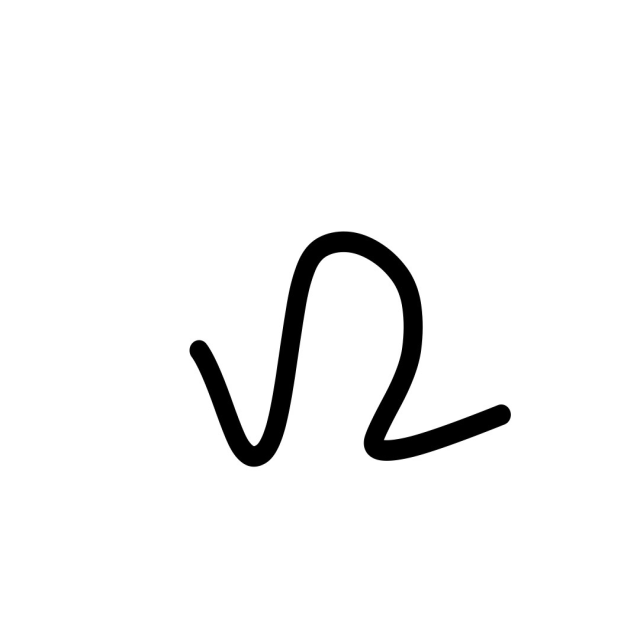ohms: (135, 147, 559, 543)
